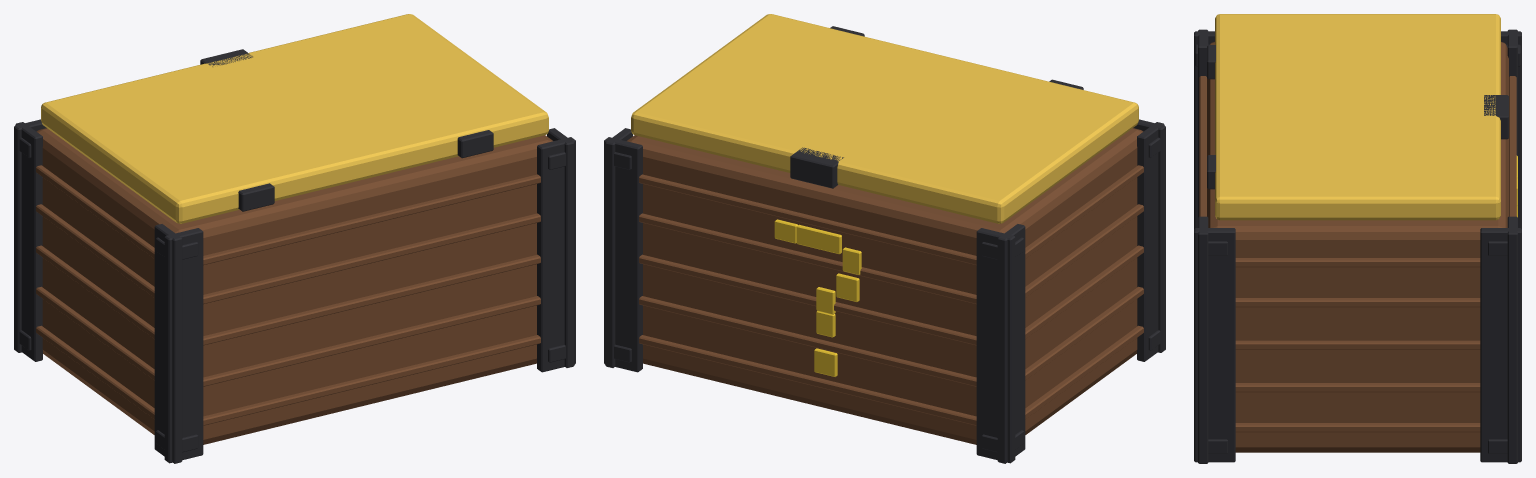
The model's file is mystery_box.obj.
3 renders of one model, left to right at view 1: azimuth 30°, elevation 25°; view 2: azimuth 150°, elevation 25°; view 3: azimuth 270°, elevation 25°, orthographic. The views are drawn at different scales.
Visible parts, largest first — view 1: MysteryBox; view 2: MysteryBox; view 3: MysteryBox.
Boxes of the visible parts, bbox=[...] form: MysteryBox: bbox=[14, 14, 575, 463]; MysteryBox: bbox=[604, 14, 1165, 463]; MysteryBox: bbox=[1194, 14, 1521, 463].
Size of the model in its own units: 1.86 by 1.09 by 1.26.
